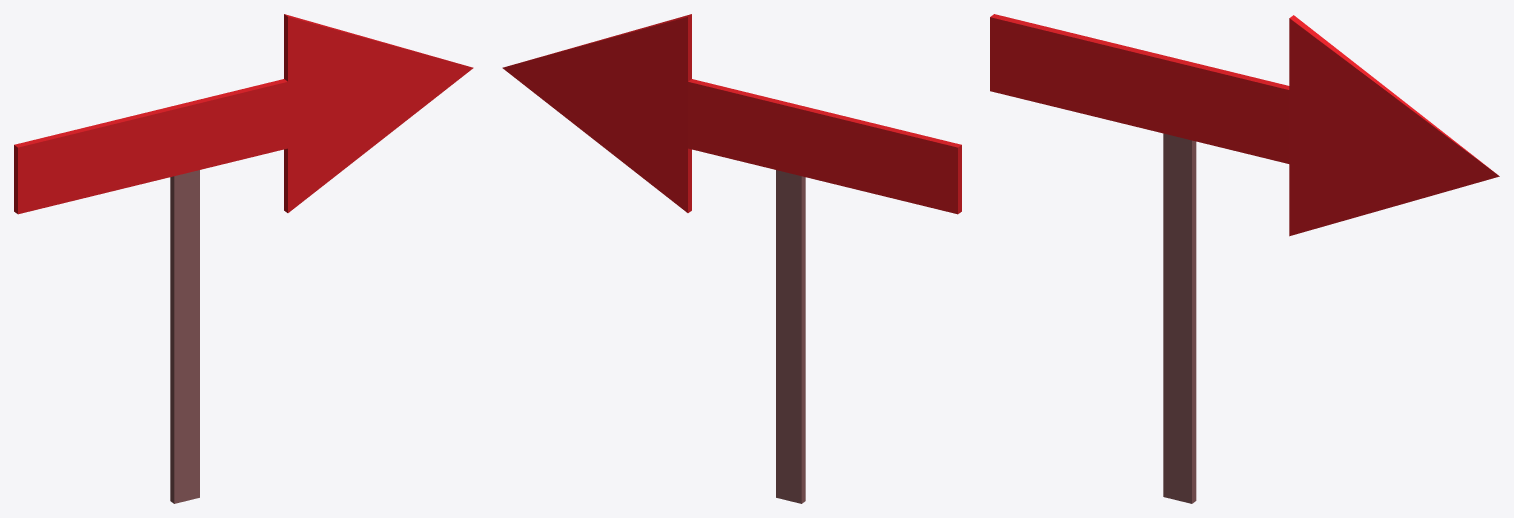
The model's file is pointer.obj.
The picture shows the model from 3 angles, left to right: view 1: azimuth 30°, elevation 25°; view 2: azimuth 150°, elevation 25°; view 3: azimuth 330°, elevation 25°; orthographic projection. The views are drawn at different scales.
Visible parts, largest first — view 1: Object.2, Object.1, Object.3; view 2: Object.2, Object.1, Object.3; view 3: Object.1, Object.2, Object.3.
Part boxes in pixels (x1,y1,x2,y2): Object.2: (14,79,287,214); Object.1: (284,14,473,212); Object.3: (170,170,199,503); Object.2: (688,79,961,214); Object.1: (502,14,691,212); Object.3: (776,170,805,503); Object.1: (1289,15,1499,236); Object.2: (990,14,1289,163); Object.3: (1163,133,1196,503).
Size of the model in its own units: 68.46 by 65.64 by 1.
